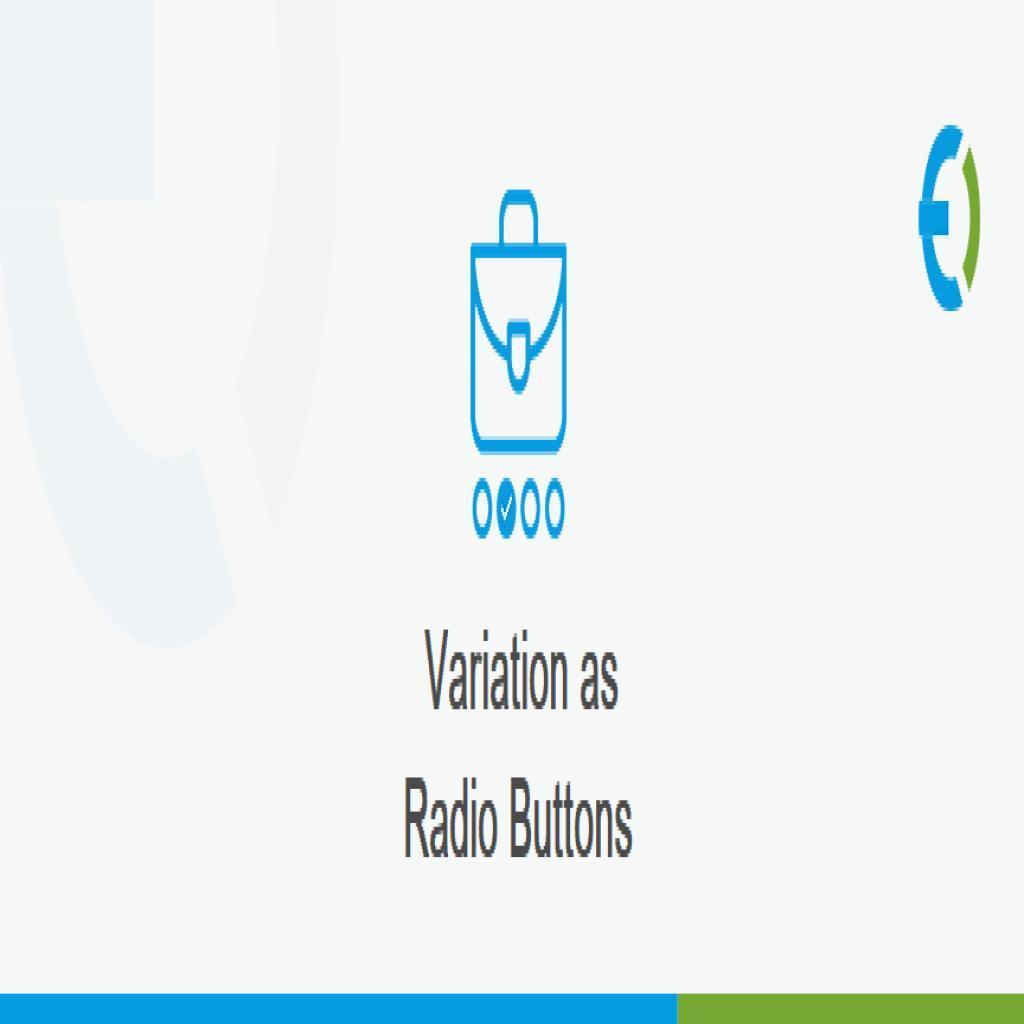label: (391, 763, 650, 871), (414, 622, 629, 718)
radio: (547, 480, 568, 540), (497, 479, 518, 539), (472, 479, 492, 541), (522, 480, 541, 539)
